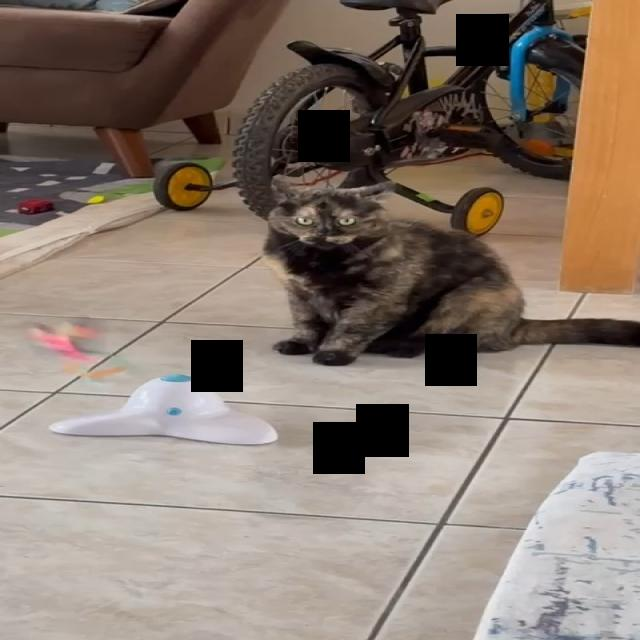authorized: (260, 177, 639, 366)
